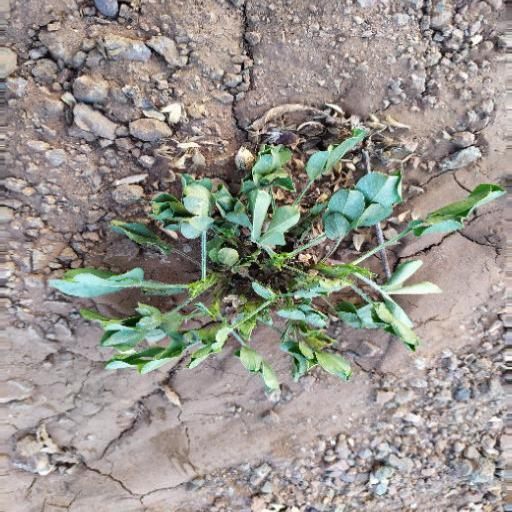weed: (71, 144, 467, 386)
